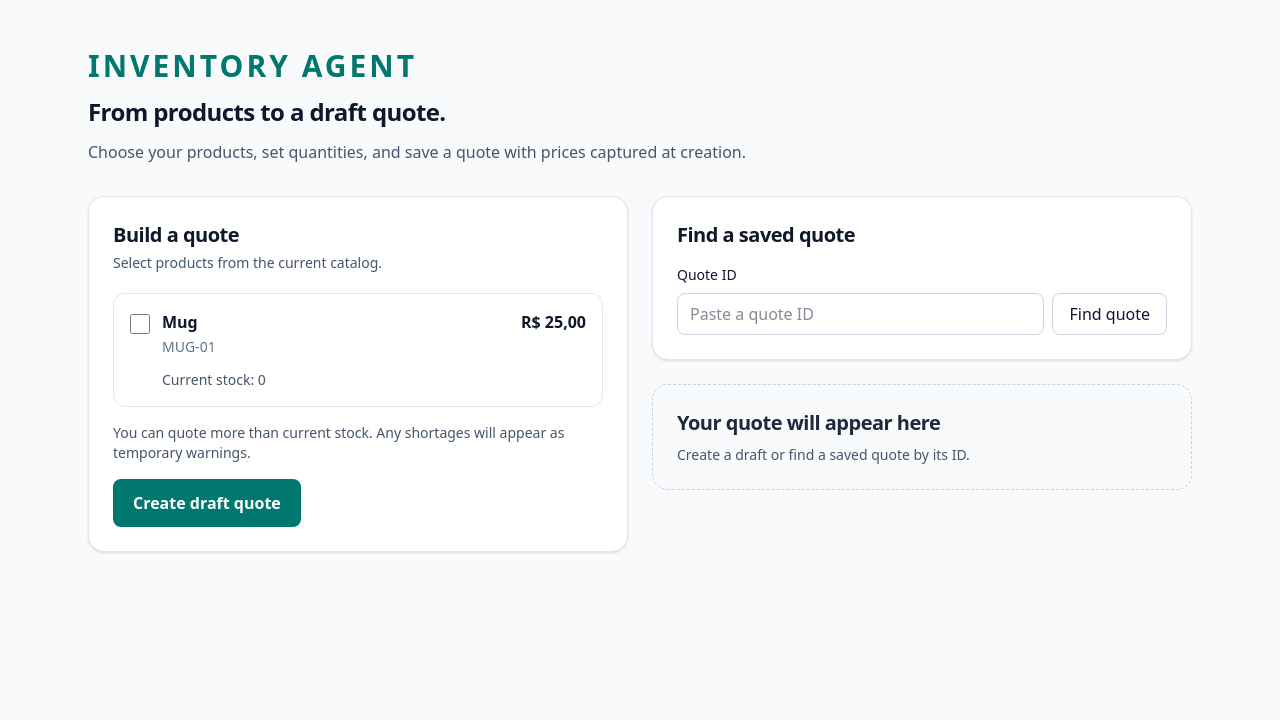
Test: shows create and lookup API errors and allows retry
The image size is (1280, 720).
Click the checkbox labelled "Mug MUG-01" at (140, 324), box 130,314 -> 150,334
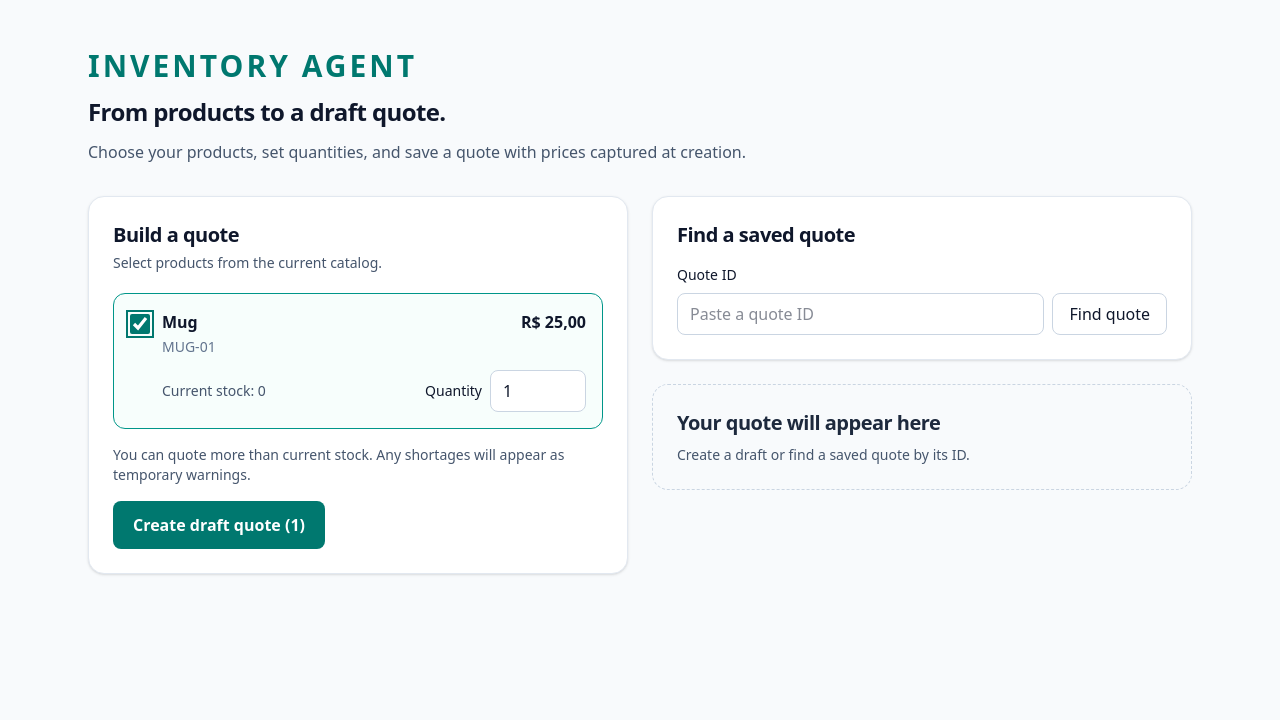
Click the button "Create draft quote (1)" at (219, 525), box 113,501 -> 325,549
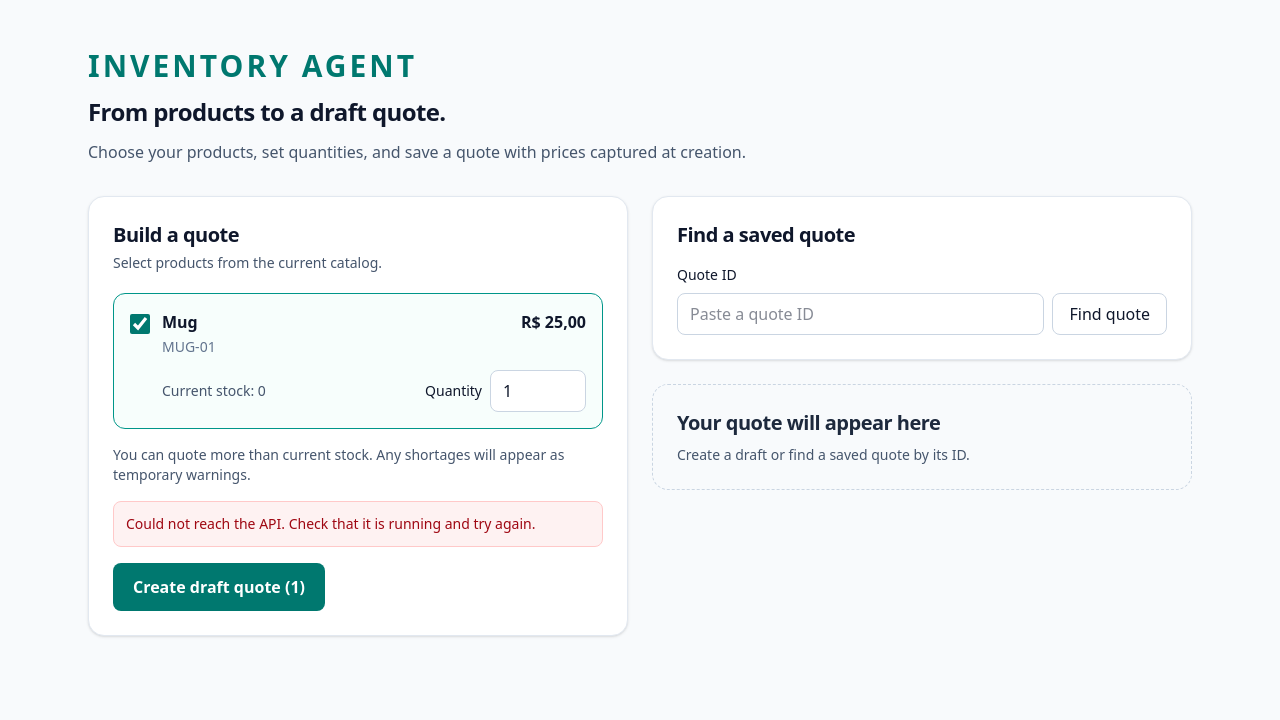
Expected: the button "Create draft quote (1)" is enabled, 113,563 -> 325,611
Expected: the message shows "Could not reach the API", 126,514 -> 535,533
Type "missing" into the field labelled "Quote ID" at (861, 314), box 677,293 -> 1044,335
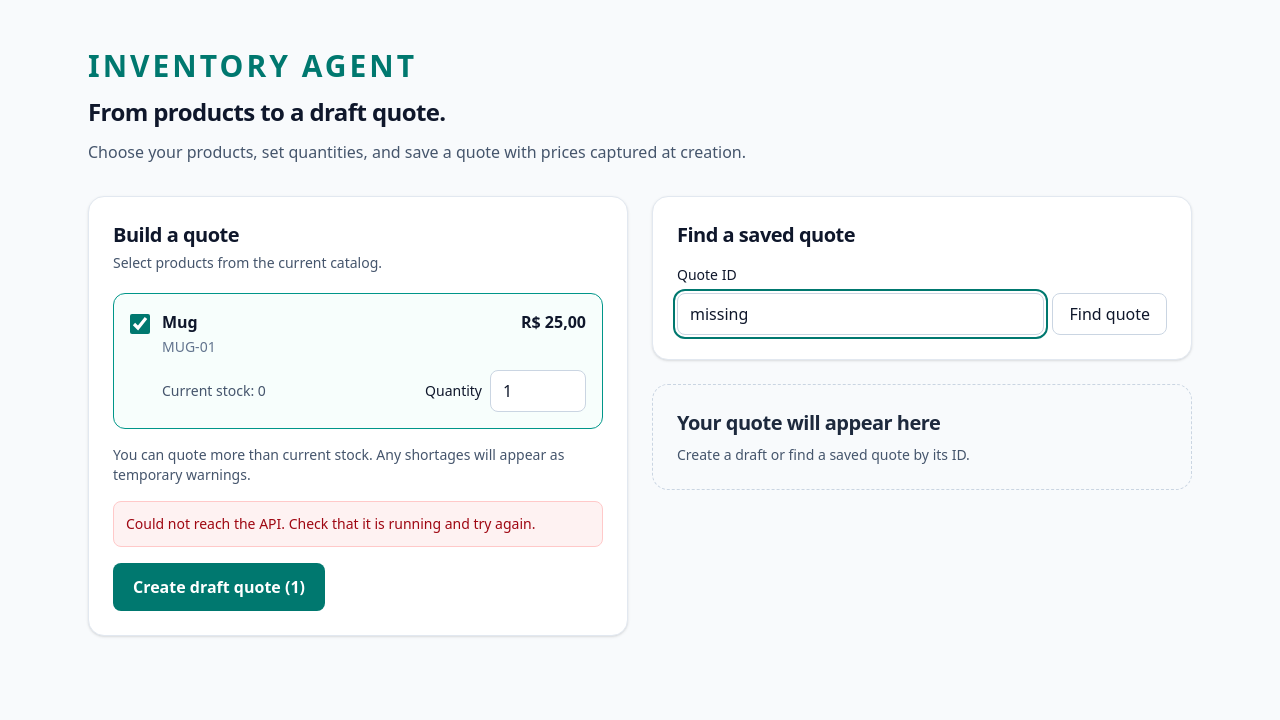
Click the button "Find quote" at (1110, 314), box 1052,293 -> 1167,335
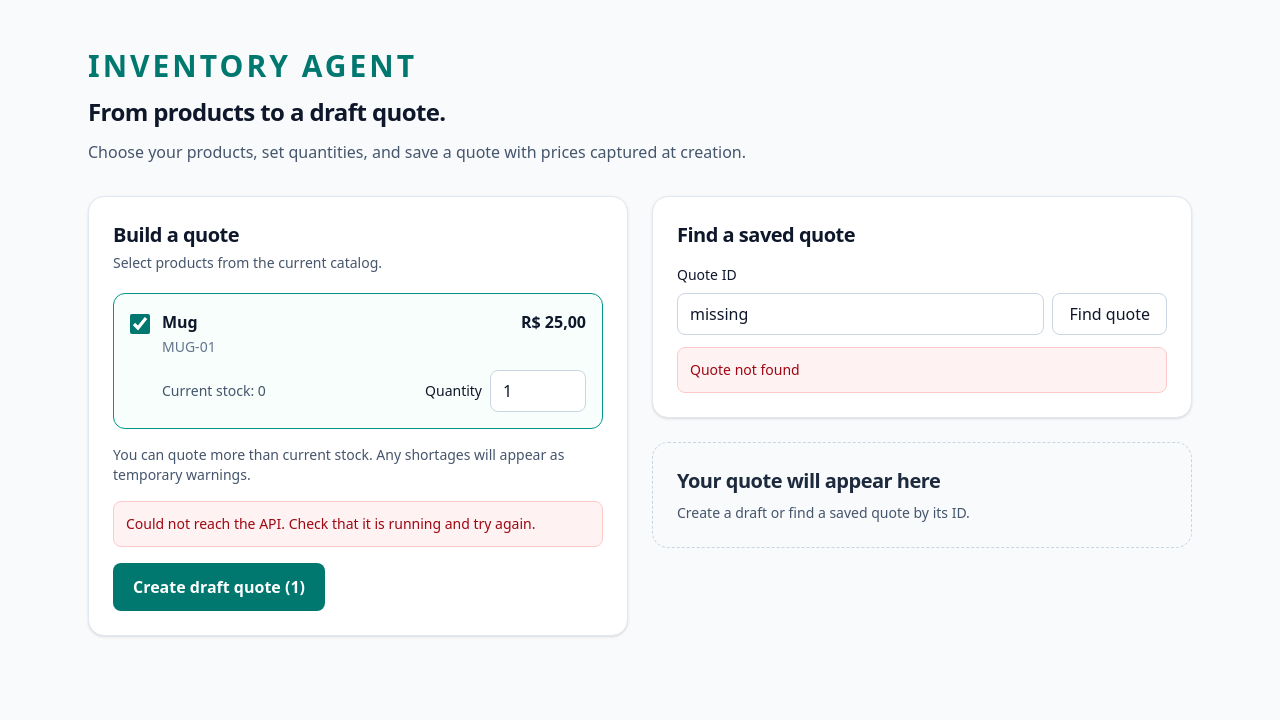
Expected: the text "Quote not found" is shown, 677,347 -> 1167,393
